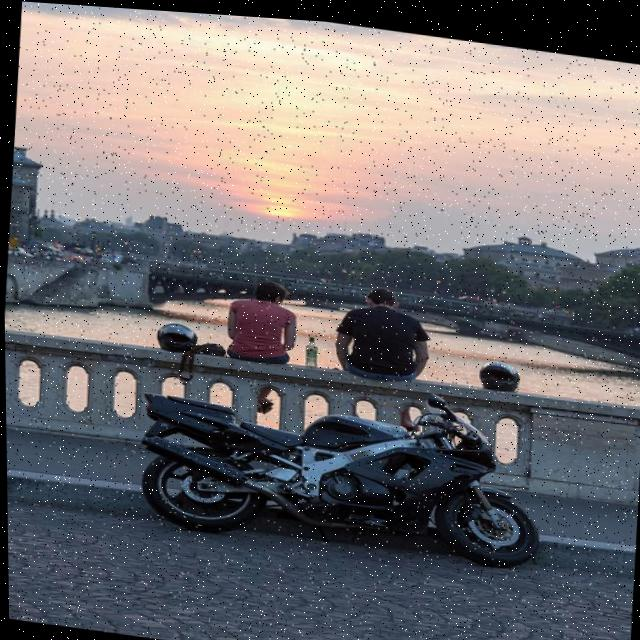motorcycle: (126, 356, 553, 576)
